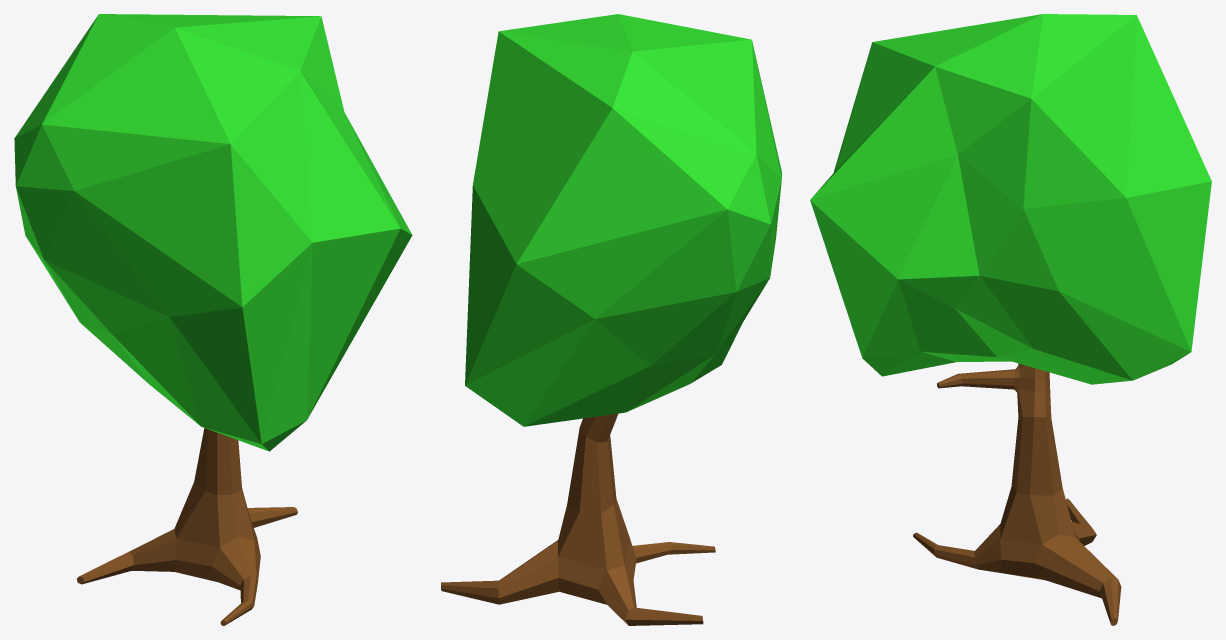
The model's file is tree02.fbx.
3 views of the same model, side by side, from view 1: azimuth 30°, elevation 25°; view 2: azimuth 150°, elevation 25°; view 3: azimuth 270°, elevation 25° (orthographic). The views are drawn at different scales.
Visible parts, largest first — view 1: Tree02; view 2: Tree02; view 3: Tree02.
Boxes of the visible parts, box(x1,y1,x2,y2) form: Tree02: box(14, 14, 412, 625); Tree02: box(441, 14, 781, 625); Tree02: box(810, 14, 1211, 625).
Size of the model in its own units: 580 by 983 by 664.
